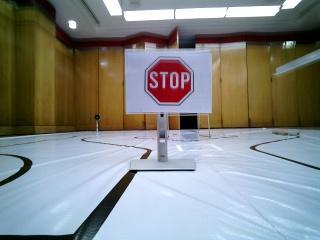stop: (136, 52, 206, 110)
